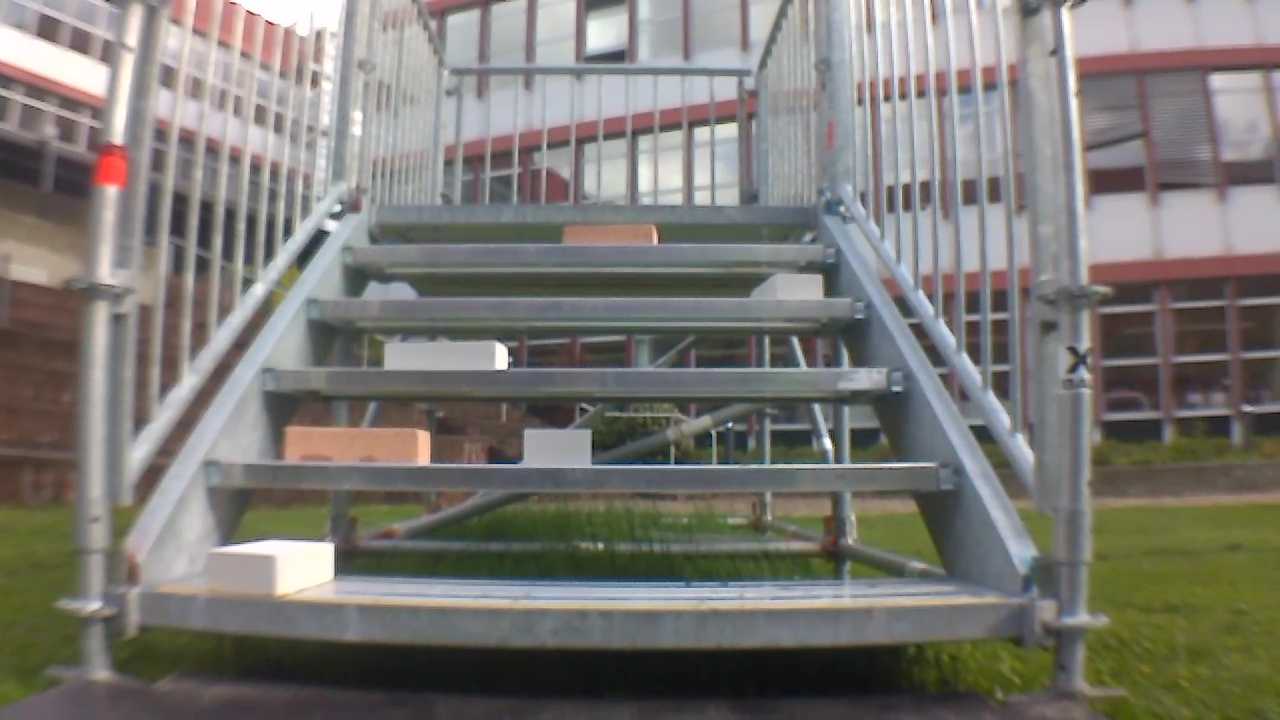brick: (205, 538, 335, 596), (281, 424, 436, 461), (382, 339, 512, 368), (559, 221, 663, 248), (524, 428, 594, 463), (747, 274, 826, 304)
edge: (132, 598, 1037, 637), (198, 459, 961, 492), (259, 365, 909, 396), (302, 299, 871, 324), (336, 243, 839, 265), (369, 206, 816, 227)
stairs: (71, 0, 1084, 698)
steps: (117, 207, 1065, 641)
